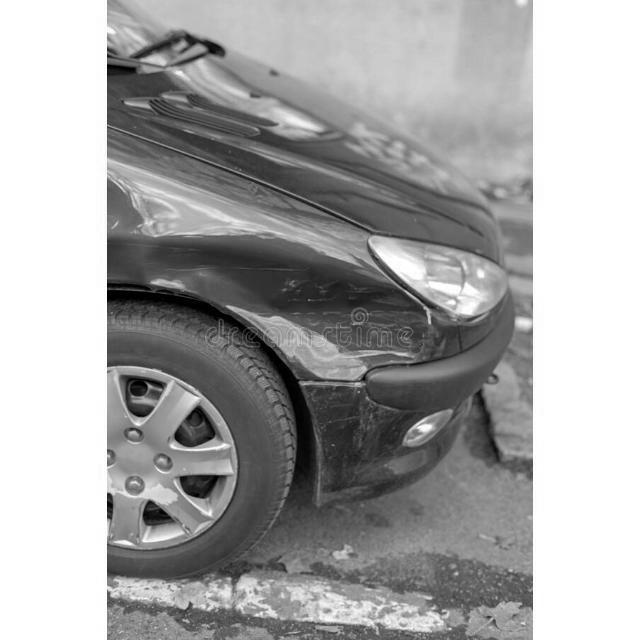fender-dent: (107, 224, 423, 386)
